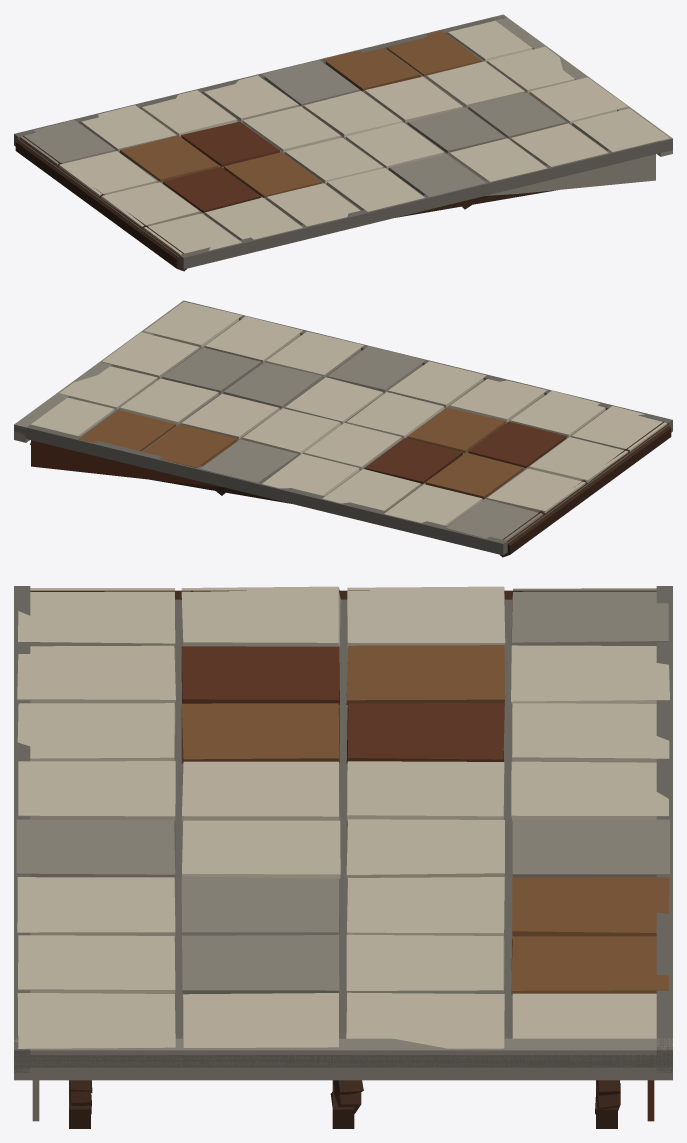
File: ship_flap.glb
3 renders of one model, top to bottom at view 1: azimuth 30°, elevation 25°; view 2: azimuth 150°, elevation 25°; view 3: azimuth 270°, elevation 25°, orthographic. The views are drawn at different scales.
Parts seen in each view (by area): view 1: ship_flap; view 2: ship_flap; view 3: ship_flap.
Boxes of the visible parts, x1=… form: ship_flap: x1=14, y1=14, x2=672, y2=271; ship_flap: x1=14, y1=300, x2=672, y2=557; ship_flap: x1=14, y1=586, x2=672, y2=1128.
Size of the model in its own units: 20.1 by 1.82 by 12.
